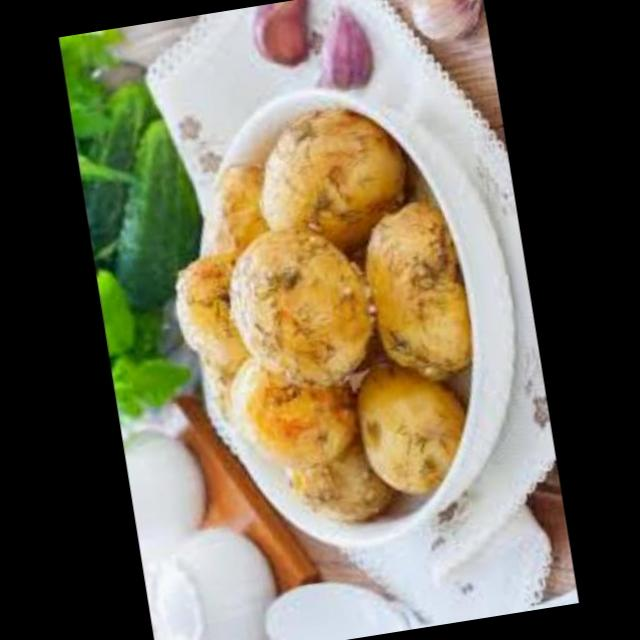Potato: (241, 91, 424, 262), (222, 222, 386, 404), (344, 194, 488, 393), (336, 353, 491, 516), (214, 334, 362, 482), (262, 405, 396, 537), (157, 242, 263, 384), (196, 144, 292, 281)
cucumber: (71, 97, 227, 335), (64, 59, 172, 251)
garlic: (300, 0, 382, 94), (244, 0, 323, 83), (398, 0, 489, 51)
